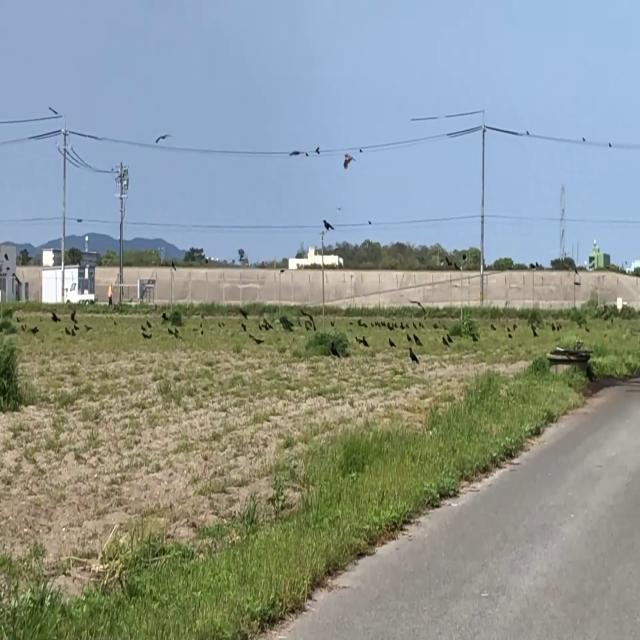bird: (156, 124, 168, 150), (290, 142, 302, 161), (344, 148, 353, 173), (409, 341, 417, 366), (412, 330, 419, 351), (363, 334, 368, 351), (389, 332, 394, 348), (471, 328, 476, 344), (146, 316, 151, 332), (443, 334, 447, 350), (316, 142, 320, 156), (552, 319, 555, 334)
